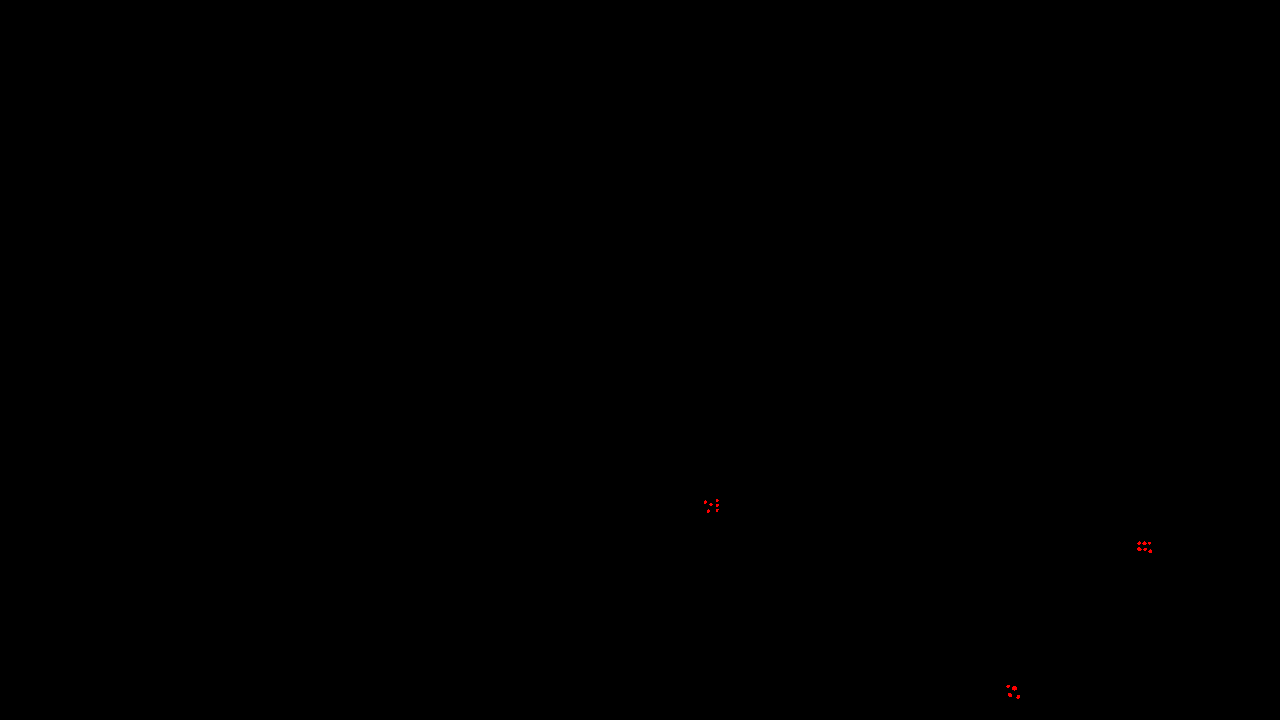Target: (1012, 686, 1017, 691), (1142, 541, 1147, 545), (1137, 547, 1142, 551), (1137, 541, 1141, 545), (1148, 549, 1152, 553), (1008, 693, 1012, 697), (1016, 695, 1020, 699), (704, 500, 707, 504), (709, 503, 713, 506), (707, 509, 710, 513), (1143, 548, 1147, 551), (1006, 685, 1010, 688), (716, 499, 719, 502), (716, 504, 719, 507), (716, 509, 719, 512), (1148, 542, 1151, 545)
